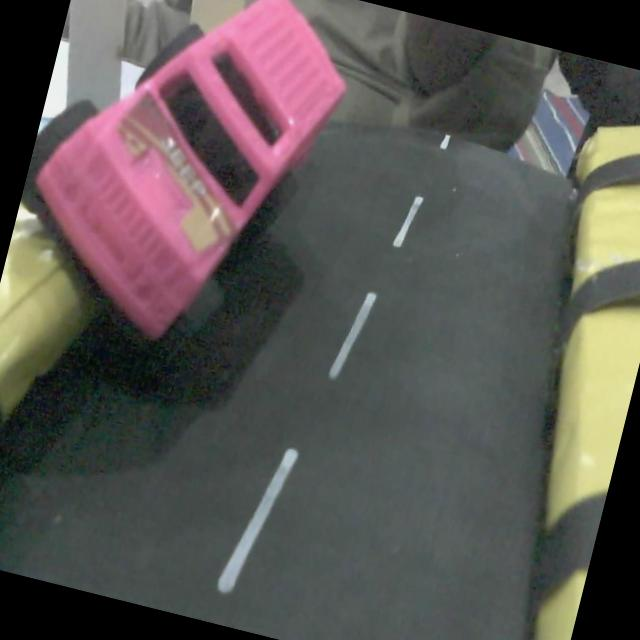Accident: (21, 0, 347, 367)
